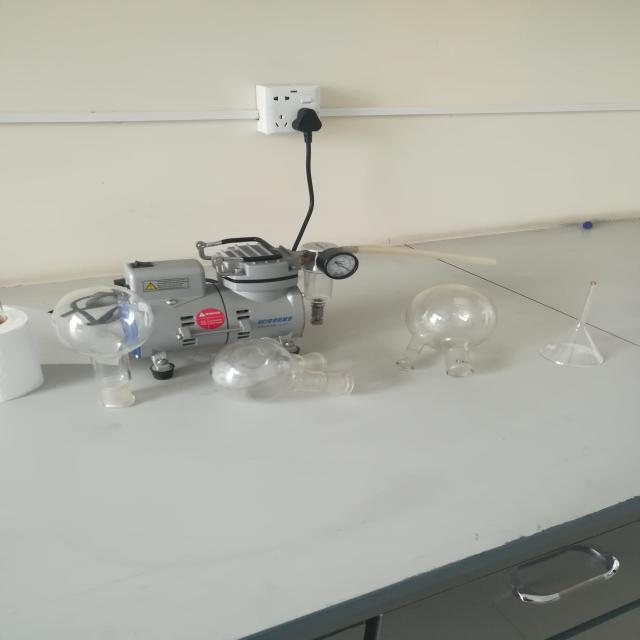Funnel: (523, 249, 628, 413)
Round_Bottom_Flask_Borosilicate_Glass_1_Neck: (39, 247, 179, 440)
Round_Bottom_Flask_Borosilicate_Glass_2_Neck: (385, 263, 502, 386)
Round_Bottom_Flask_Borosilicate_Glass_3_Neck: (188, 317, 378, 422)
